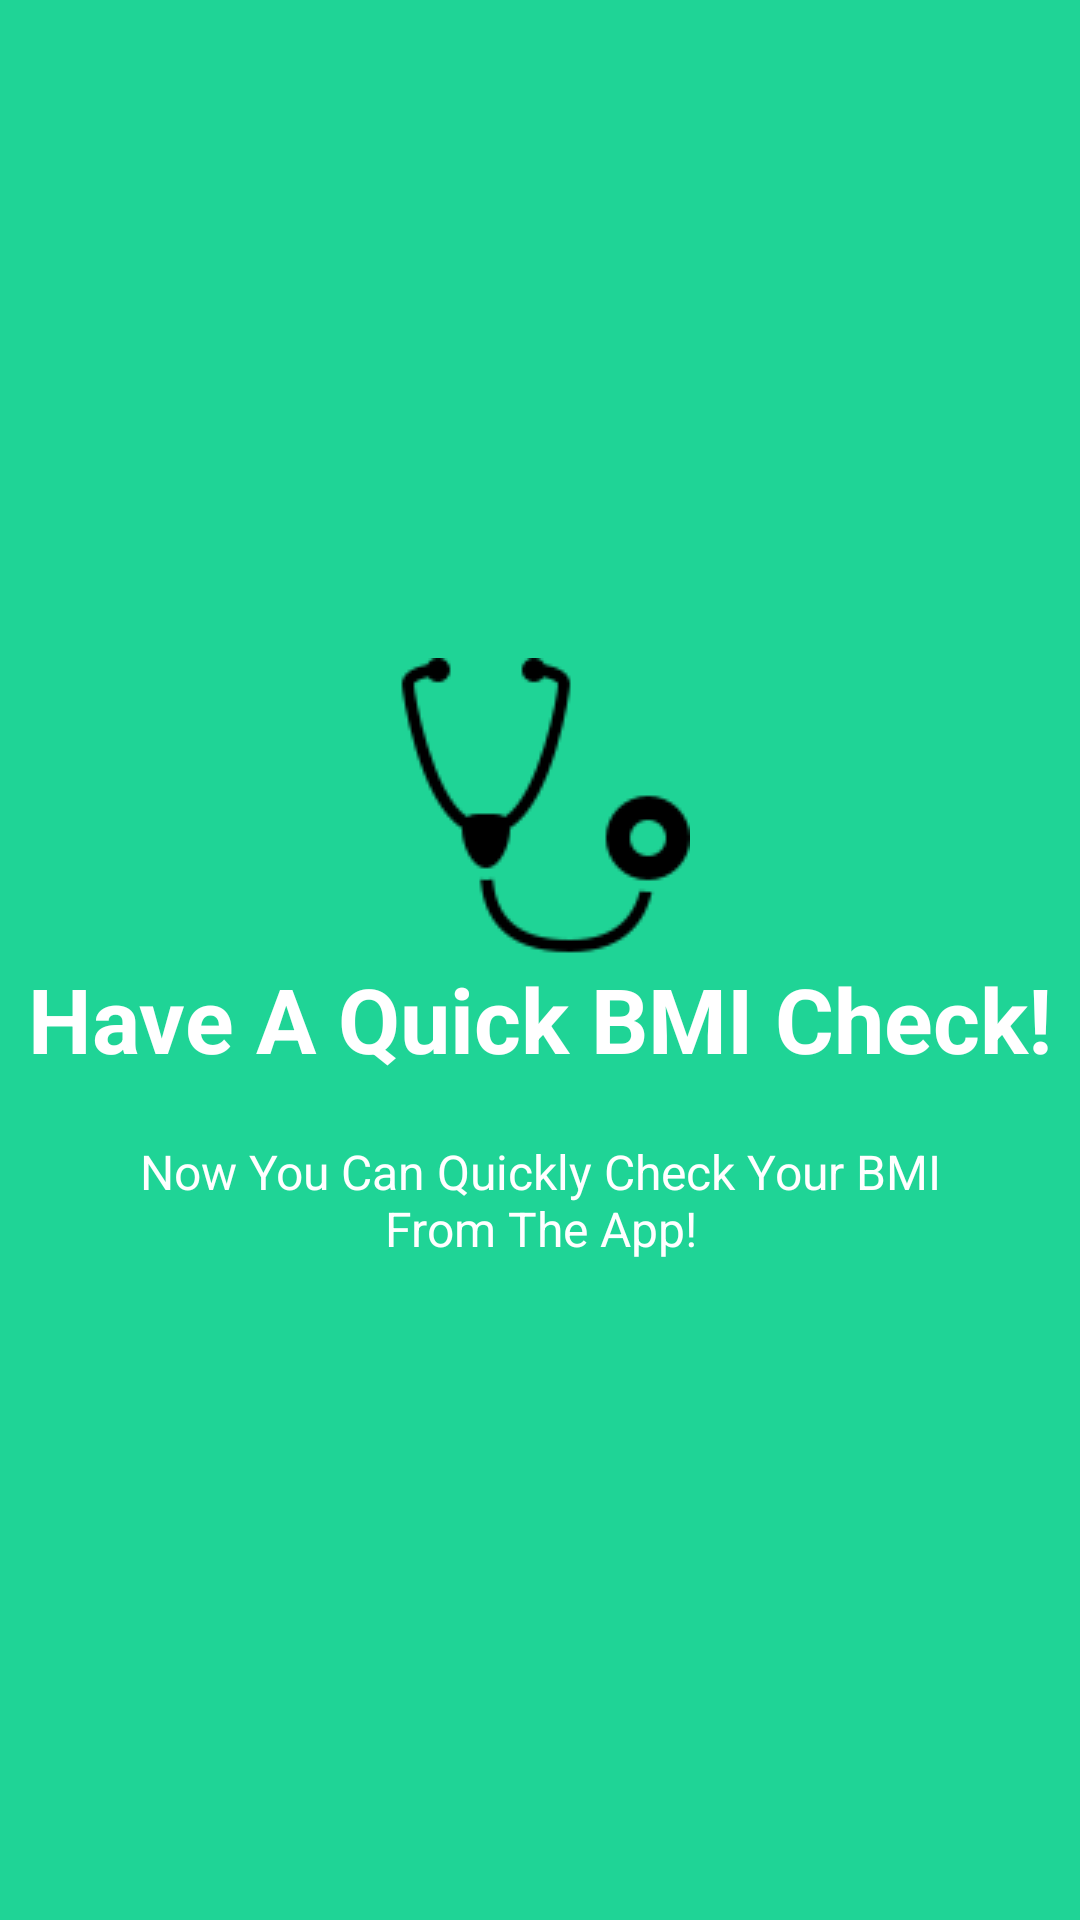

Point at icon controls on the screen. Image size 1080w x 1920h, points as [x,y].
sthe: [545,805]
